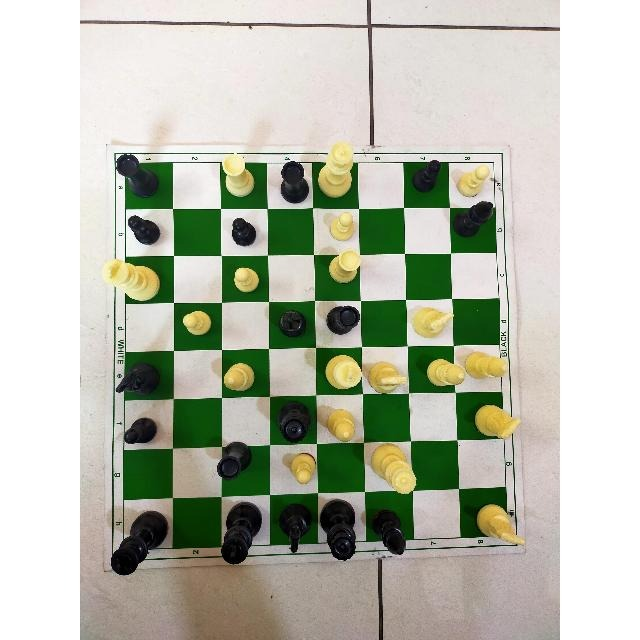black-bishop: (454, 199, 496, 241), (371, 508, 406, 555), (274, 307, 313, 343)
black-king: (110, 505, 167, 580), (217, 502, 262, 570)
black-knight: (276, 504, 314, 556), (114, 362, 161, 394)
black-pawn: (412, 159, 443, 193), (122, 416, 159, 444), (127, 214, 161, 243), (230, 217, 257, 246)
black-queen: (319, 498, 361, 565), (271, 399, 314, 445)
black-rook: (111, 150, 165, 198), (275, 158, 313, 205), (216, 441, 252, 481), (324, 305, 361, 335)
white-bishop: (465, 349, 510, 380), (425, 356, 467, 389), (221, 361, 257, 393), (326, 407, 358, 442)
white-king: (101, 258, 164, 302), (324, 354, 362, 390)
white-knight: (473, 501, 527, 549), (472, 403, 524, 443), (411, 305, 454, 338), (366, 361, 407, 395)
white-pawn: (457, 164, 491, 197), (179, 310, 213, 336), (290, 453, 317, 485), (328, 211, 356, 241), (232, 267, 261, 293)
white-queen: (369, 444, 421, 496), (317, 140, 355, 200)
white-rook: (221, 153, 257, 197), (328, 248, 362, 283)
